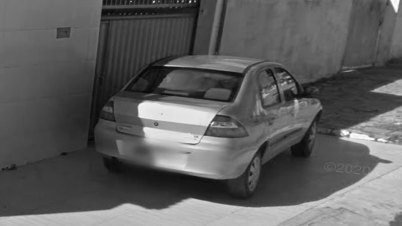car: (90, 51, 325, 198)
